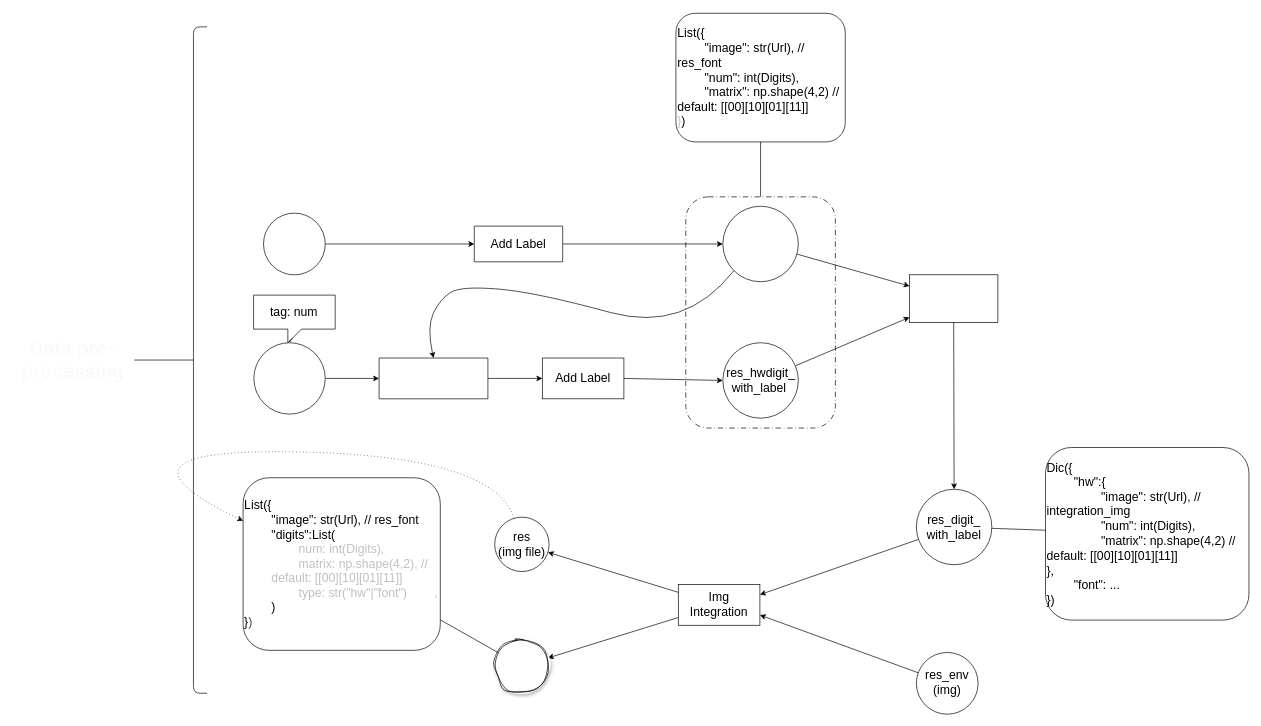
This 1261x726 diagram has some shape labels left out. The centre of each missing label's shape, as x and y in pixels:
Data Arrangement: (953,298)
Data_info: (522,666)
Matrix Adjust: (433,378)
res_font (font file): (294,243)
res_ftdigit_ with_label: (760,244)
res_mnist _digits (py lib): (289,378)
